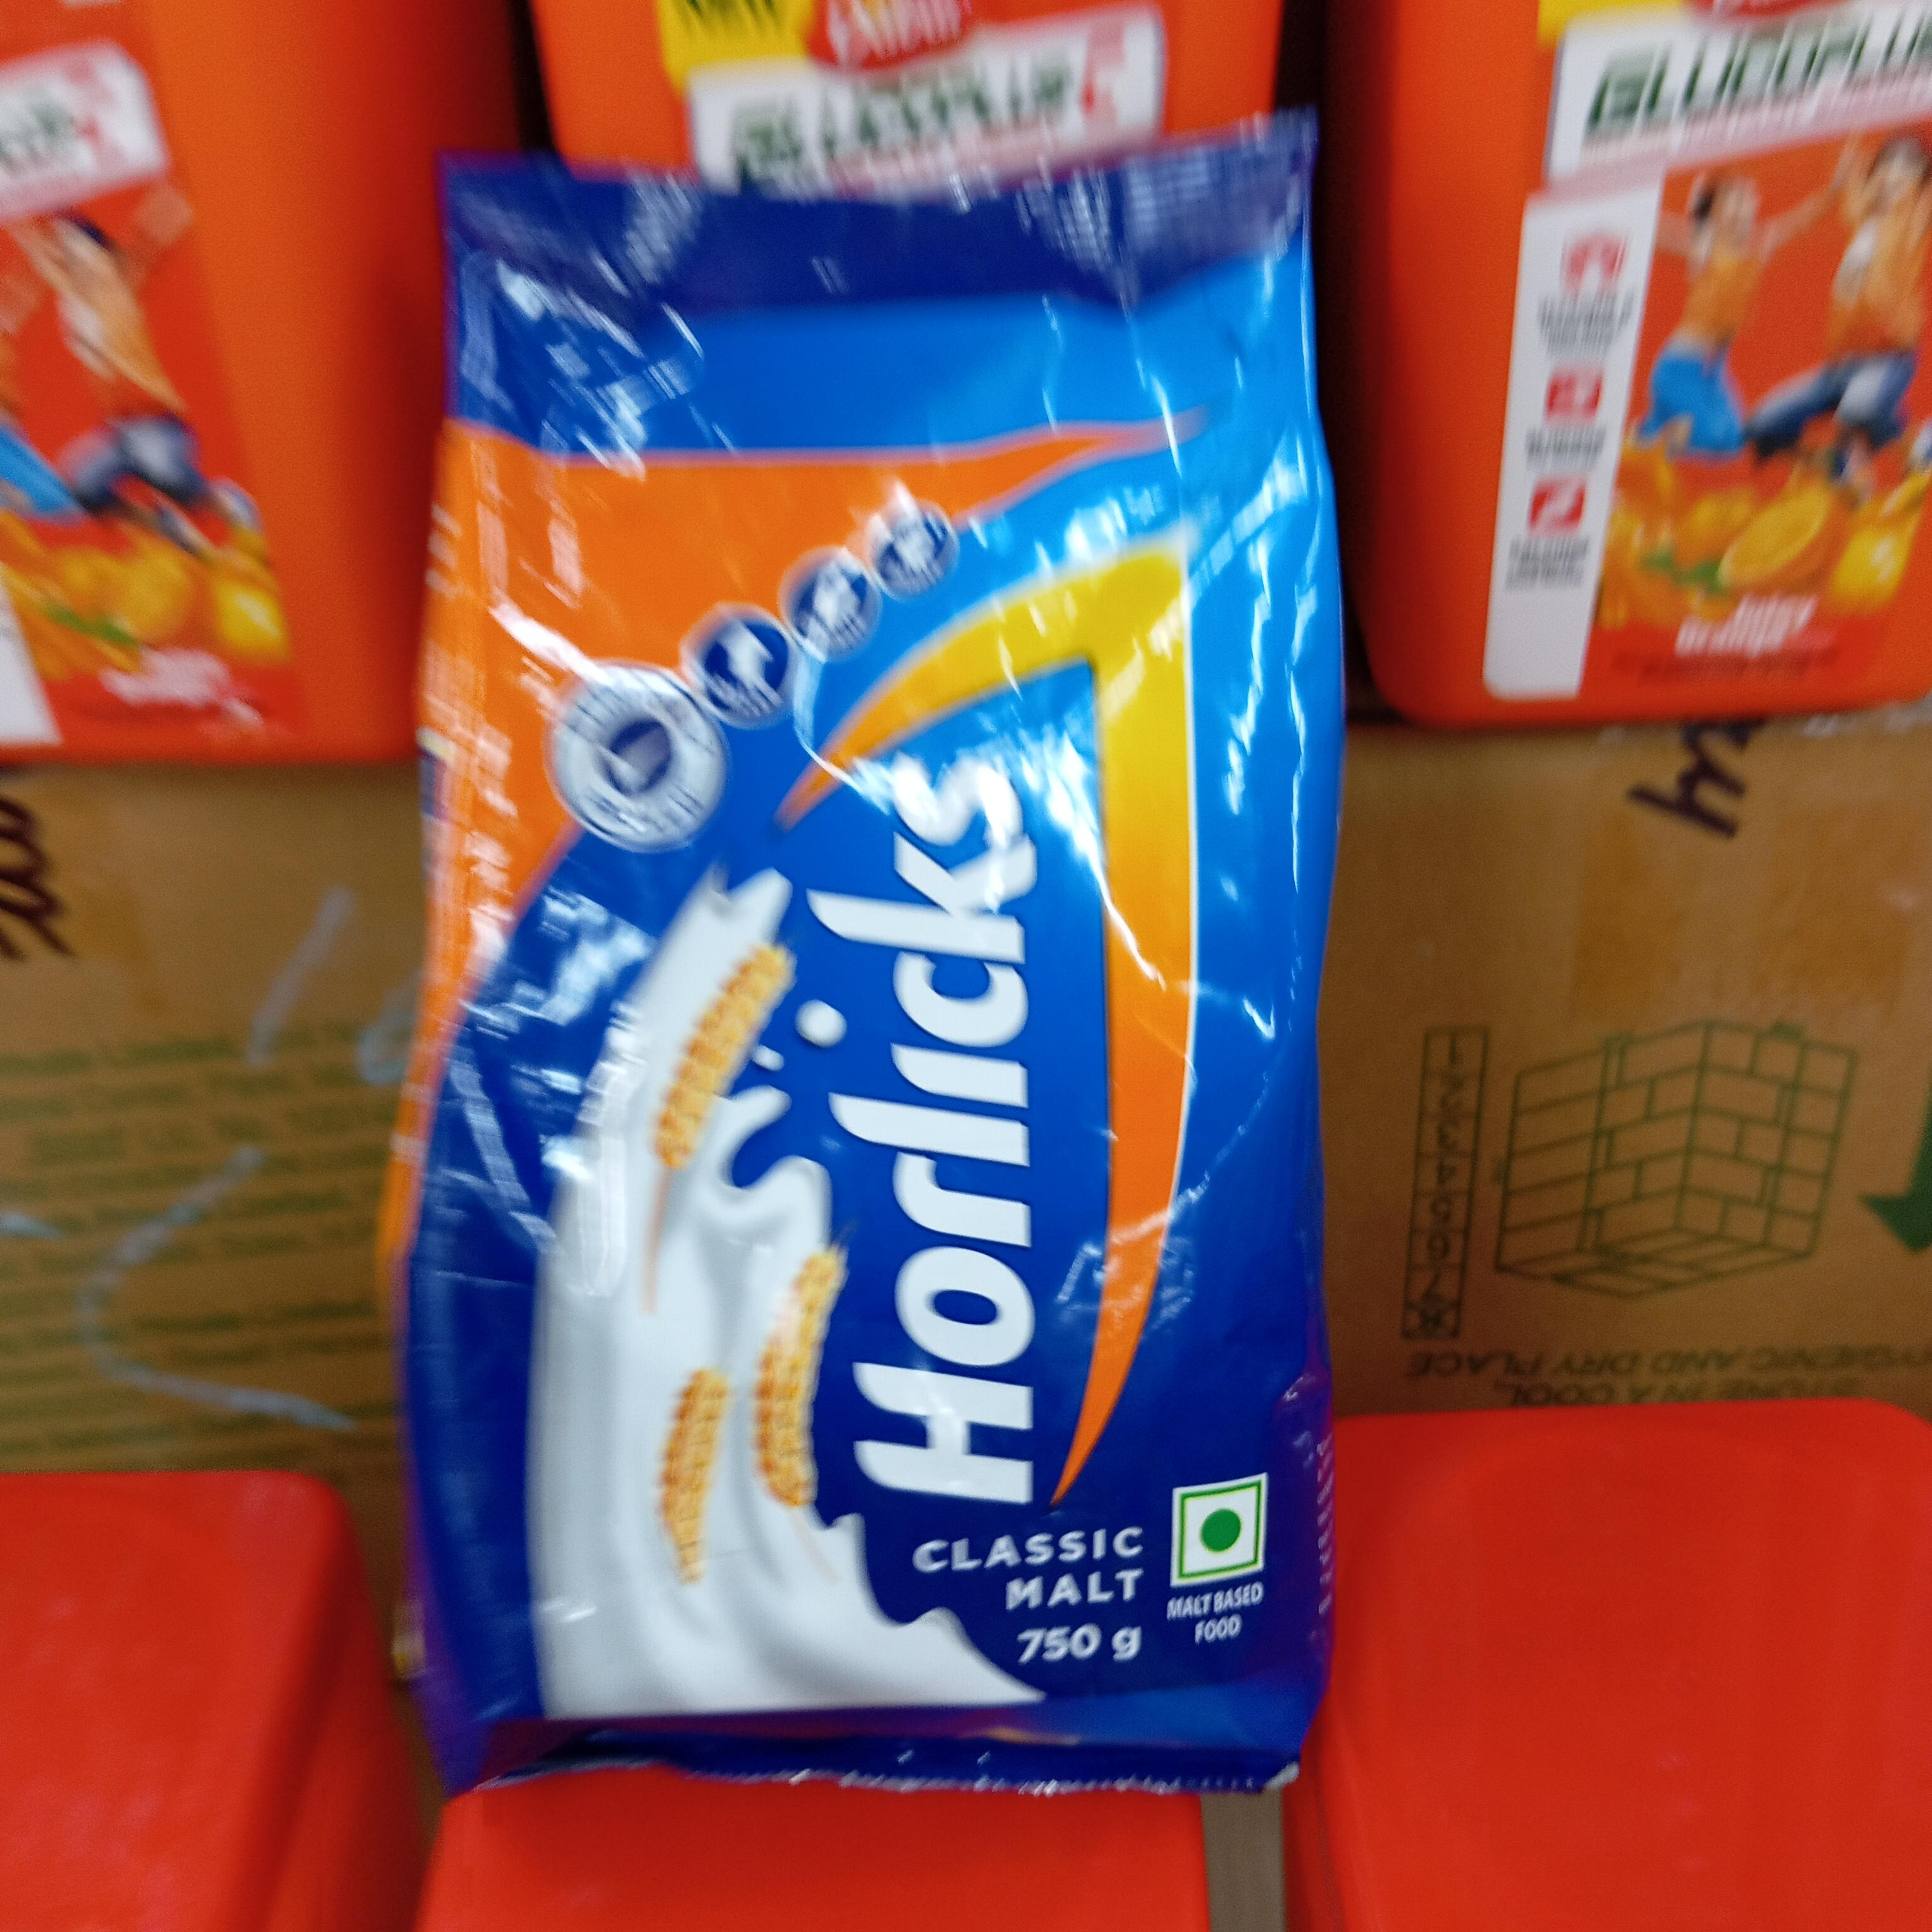HORLICK_CLASSIC_MALT_750_G_POUCH: (446, 170, 1313, 1794)
